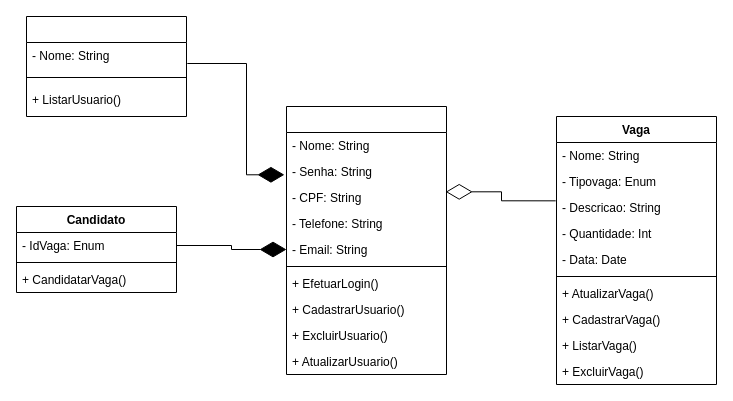
Image size: 733x401. Some labels were removed from this diagram. Each missing label, with the box of its shape:
UFuncionario: (26, 16, 186, 116)
Usuário: (286, 106, 446, 374)
